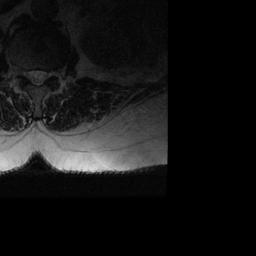CCS_normal: (34, 62, 40, 90)
LFS_stenosis: (48, 62, 55, 84)
LLS_stenosis: (40, 63, 48, 88)
RFS_normal: (19, 61, 26, 83)
RLS_normal: (26, 63, 34, 86)
